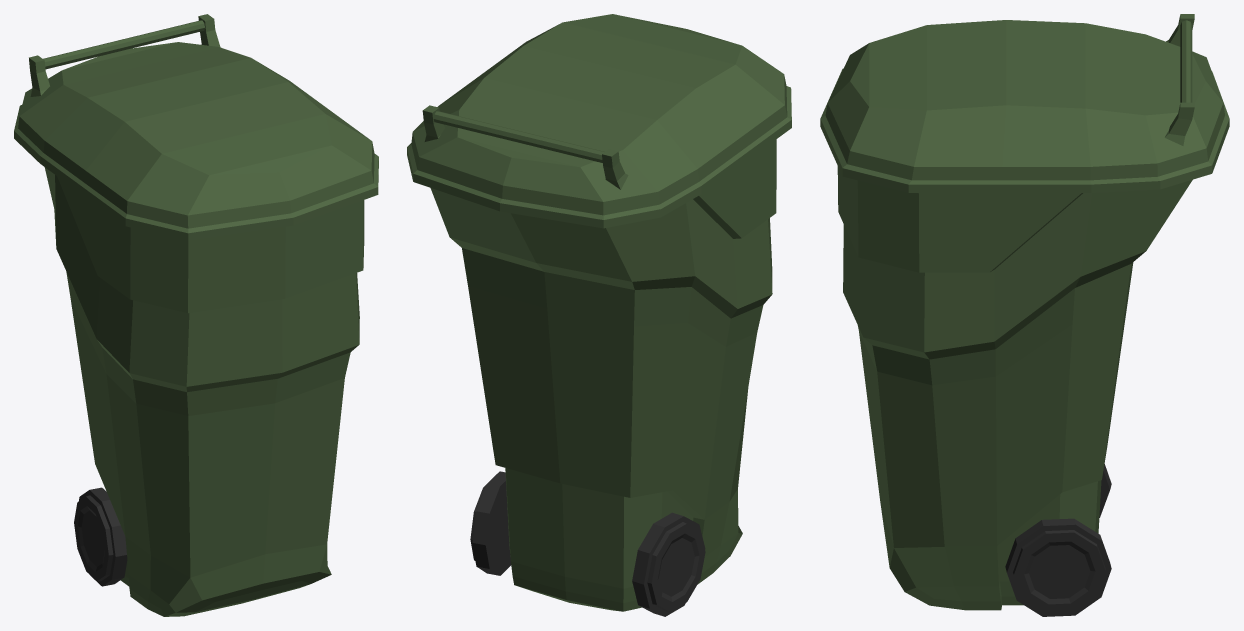
The model's file is Trashcan.glb.
The picture shows the model from 3 angles, left to right: view 1: azimuth 30°, elevation 25°; view 2: azimuth 150°, elevation 25°; view 3: azimuth 270°, elevation 25°; orthographic projection. The views are drawn at different scales.
Visible parts, largest first — view 1: Trashcan; view 2: Trashcan; view 3: Trashcan.
Part boxes in pixels (x1,y1,x2,y2): Trashcan: [14, 14, 378, 616]; Trashcan: [407, 14, 791, 616]; Trashcan: [820, 14, 1229, 616].
Bounding box in the file's own units: 3.72 × 6.75 × 4.86.
